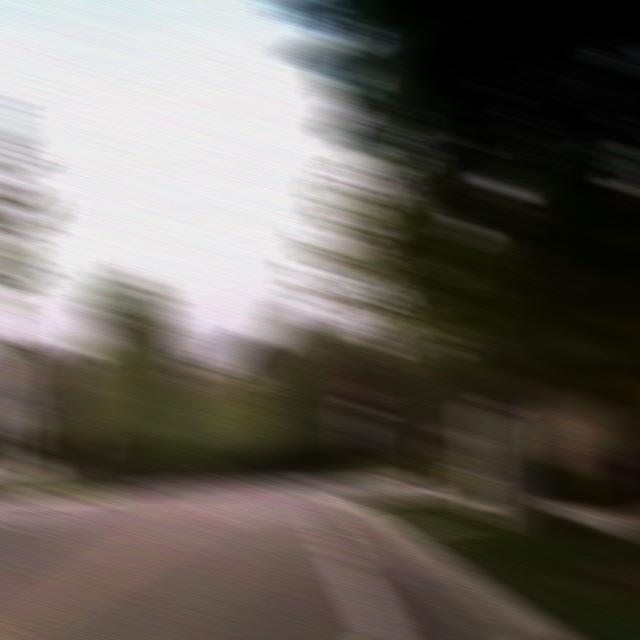stop_sign: (342, 372, 385, 411)
